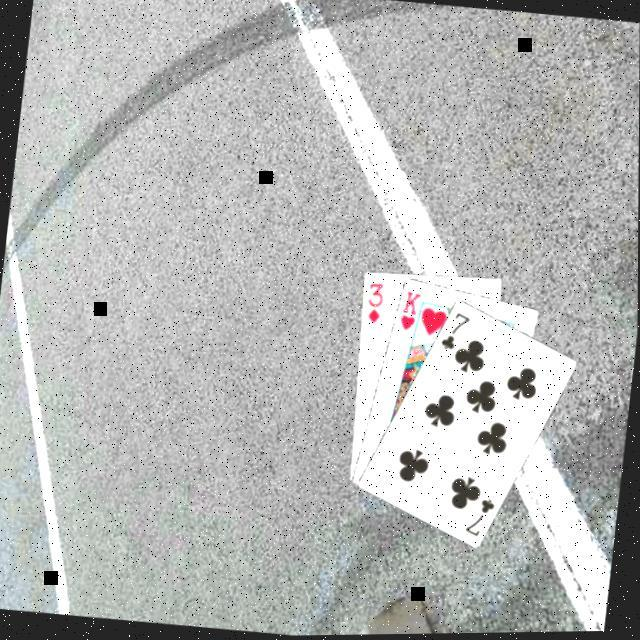3D: (359, 281, 384, 329)
7C: (459, 495, 496, 544), (434, 309, 471, 357)
KH: (393, 290, 422, 337)
